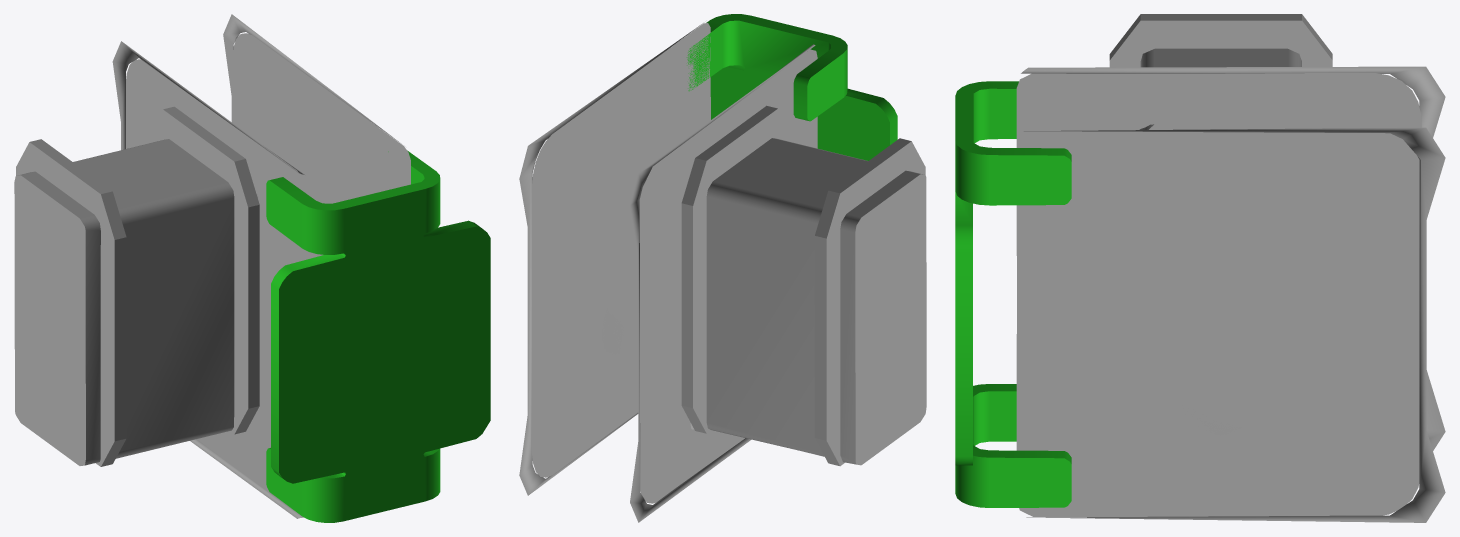
The model's file is SakePalmLink.obj.
The picture shows the model from 3 angles, left to right: view 1: azimuth 30°, elevation 25°; view 2: azimuth 150°, elevation 25°; view 3: azimuth 270°, elevation 25°; orthographic projection. The views are drawn at different scales.
Visible parts, largest first — view 1: EZG_IM_Hand_Gen_2_5___MODEL, EZG_IM_Mount___MODEL; view 2: EZG_IM_Hand_Gen_2_5___MODEL, EZG_IM_Mount___MODEL; view 3: EZG_IM_Hand_Gen_2_5___MODEL, EZG_IM_Mount___MODEL.
Part boxes in pixels (x1,y1,x2,y2): EZG_IM_Hand_Gen_2_5___MODEL: (14,14,410,518); EZG_IM_Mount___MODEL: (266,150,490,522); EZG_IM_Hand_Gen_2_5___MODEL: (519,23,926,522); EZG_IM_Mount___MODEL: (686,14,897,160); EZG_IM_Hand_Gen_2_5___MODEL: (1016,14,1445,522); EZG_IM_Mount___MODEL: (955,81,1071,507).
Bounding box in the file's own units: 0.0756 × 0.0784 × 0.0881.
